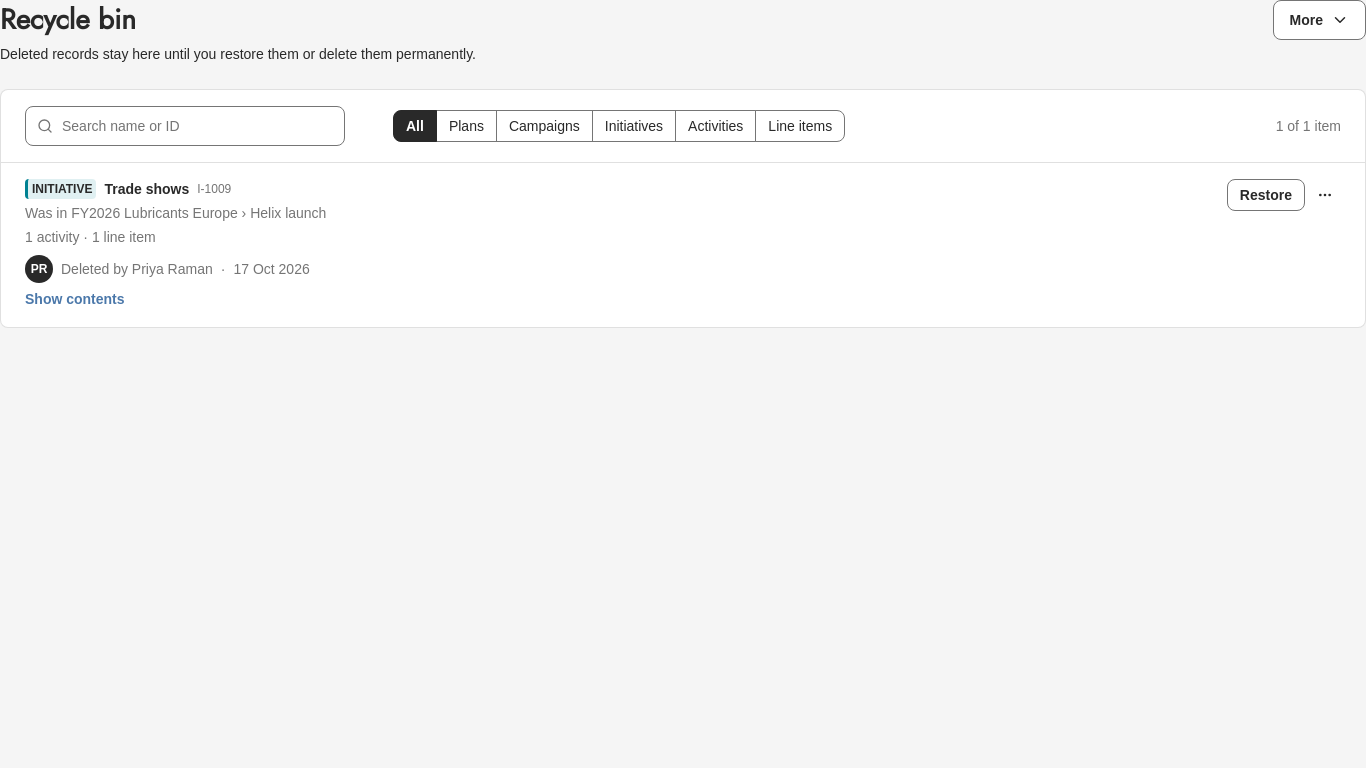
Scenario: RecycleBinPage › deletes a row permanently from its menu (FR-028)
The width and height of the screenshot is (1366, 768).
Step 1. Click the button named "Actions for initiative 'Trade shows'" → click(1325, 195), box x1=1309 y1=179 x2=1341 y2=211
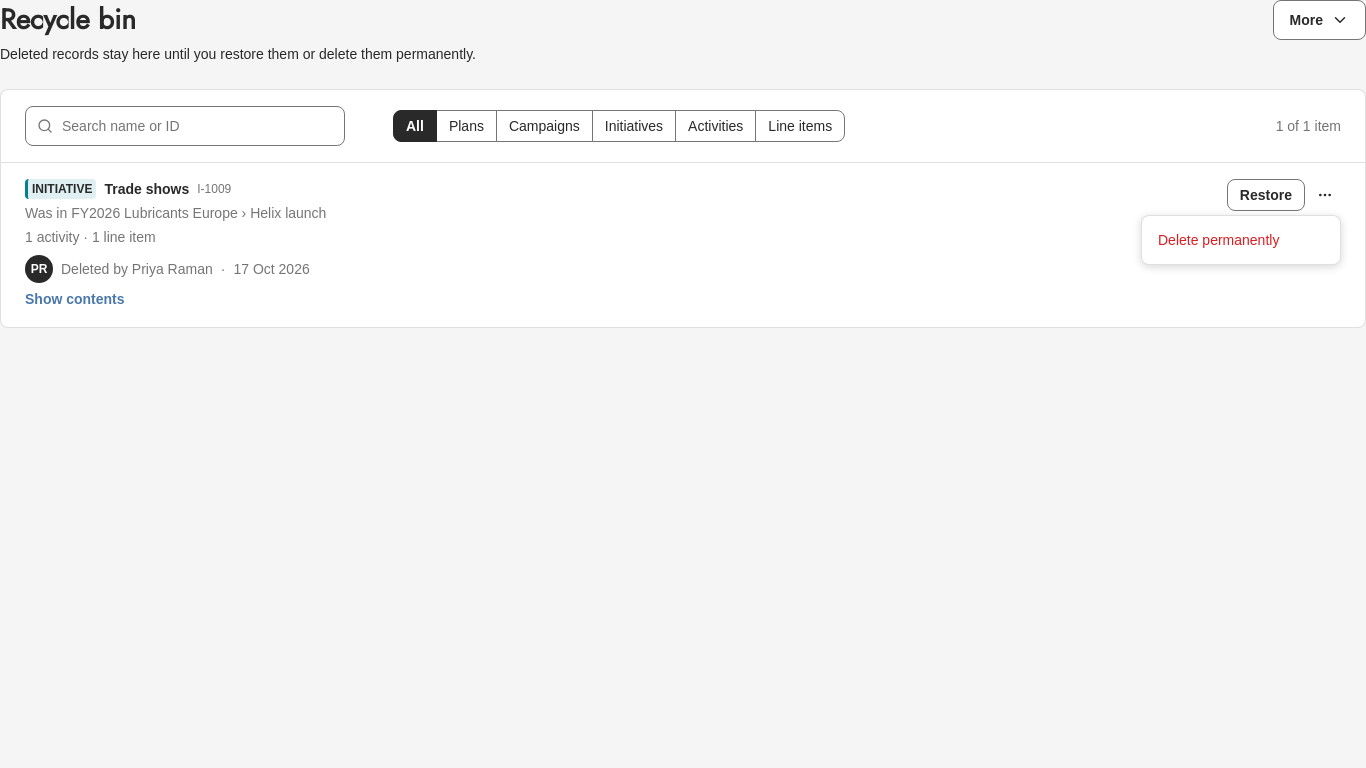
Step 2. Click the menu item "Delete permanently" → click(1219, 240), box x1=1158 y1=232 x2=1279 y2=248
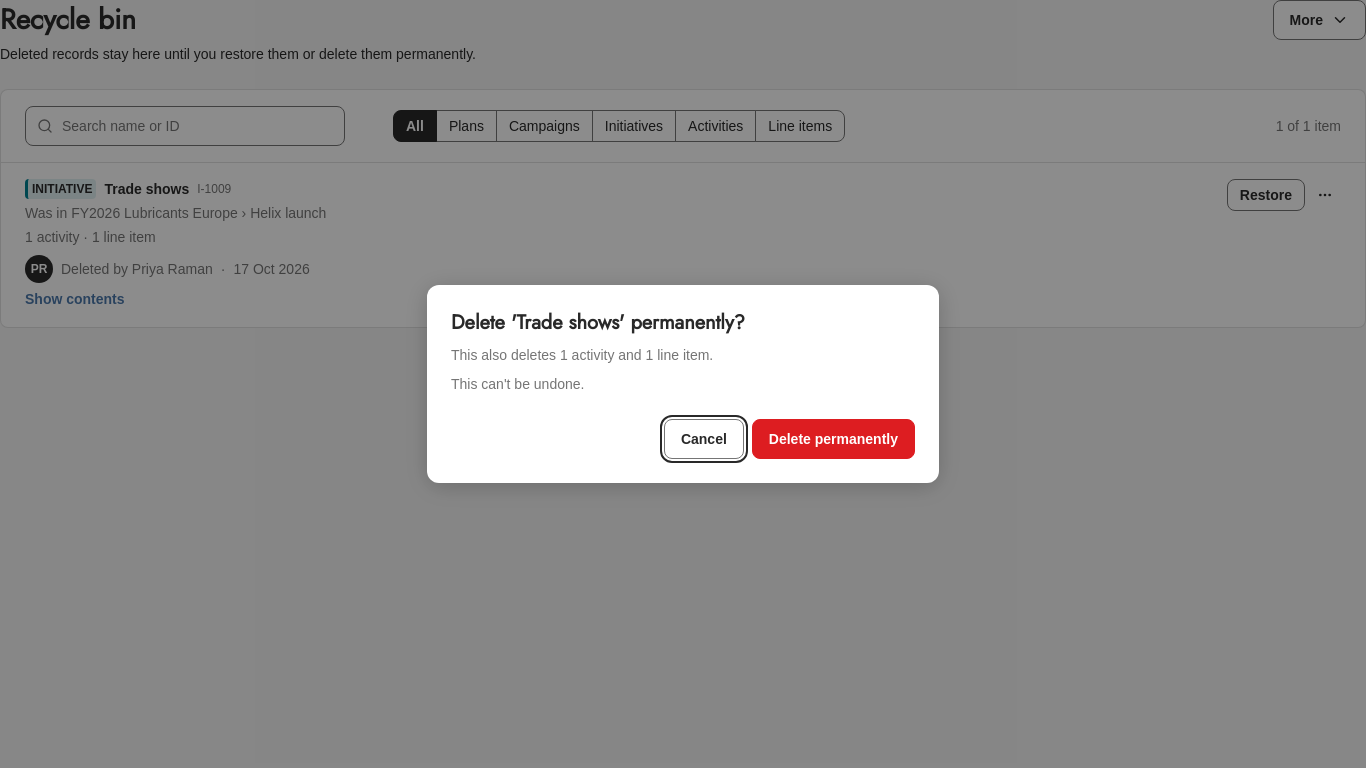
Step 3. Click the button "Delete permanently" → click(833, 439), box x1=752 y1=419 x2=915 y2=459
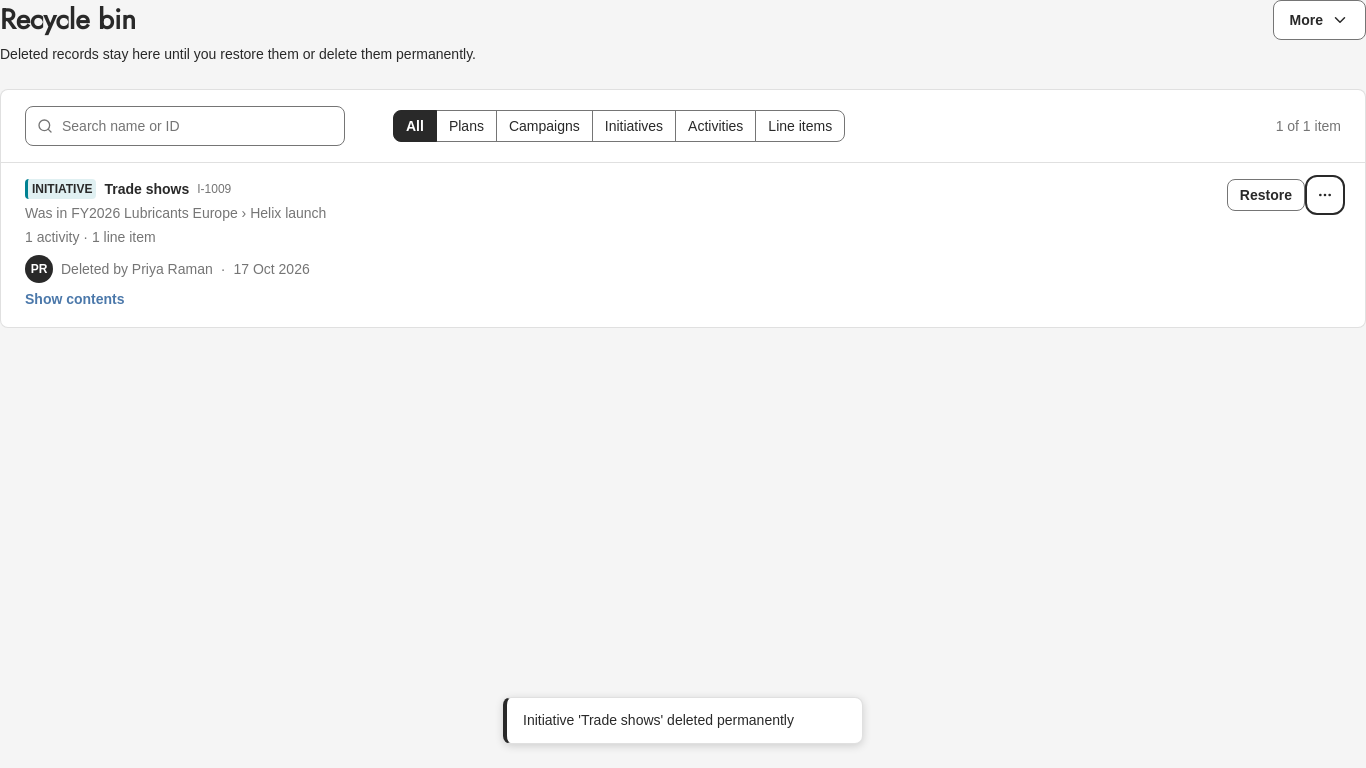
Result: the dialog is gone
